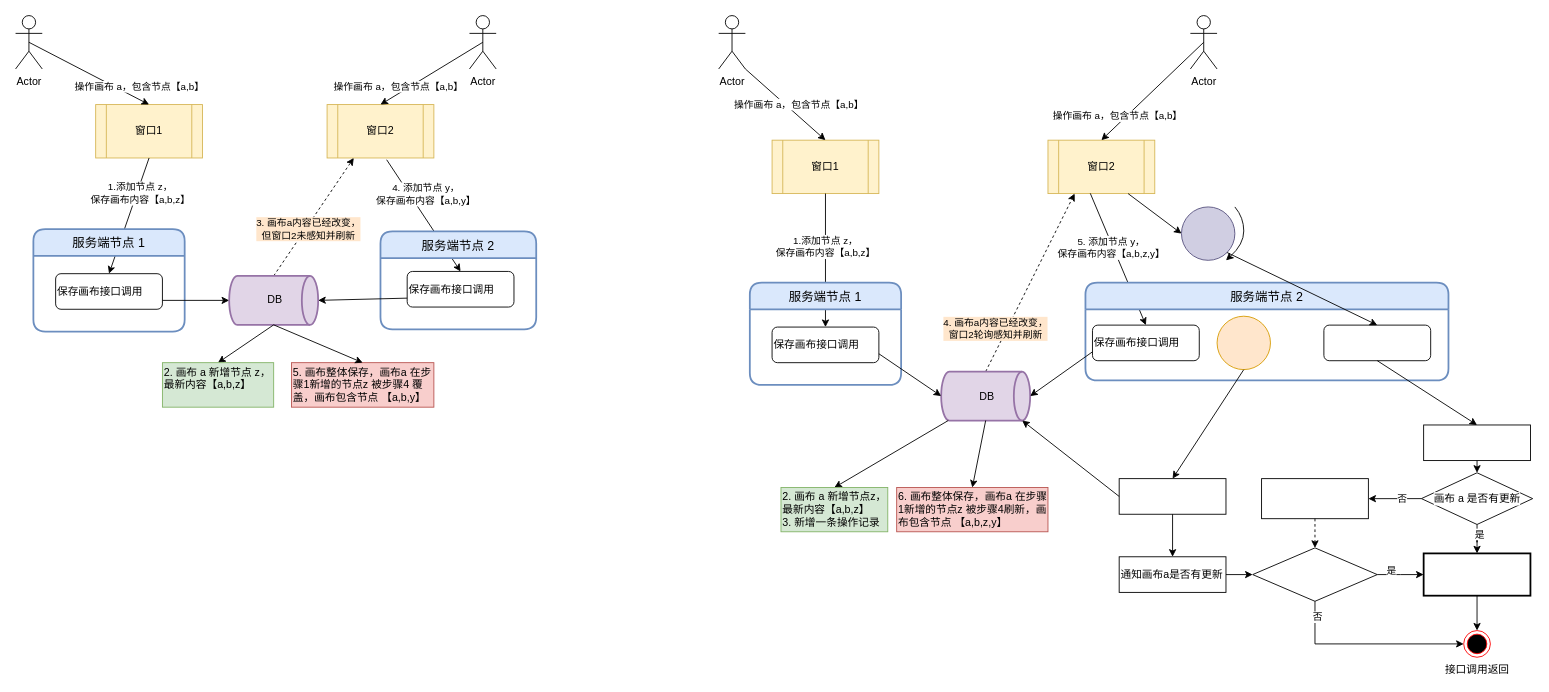
Image size: 1549x692. Some labels were removed from this diagram. Each missing label, with the centre of its shape:
一定时长是否有更新: (1314,574)
不断轮询: (1208,233)
定时任务: (1243,342)
扫描操作记录表: (1172,496)
查询操作记录表: (1476,442)
立即返回，通知客户端刷新画布a: (1476,574)
请求 hold，设置一定时长后默认通知客户端不需要刷新: (1314,498)
长轮询接口调用: (1377,342)
